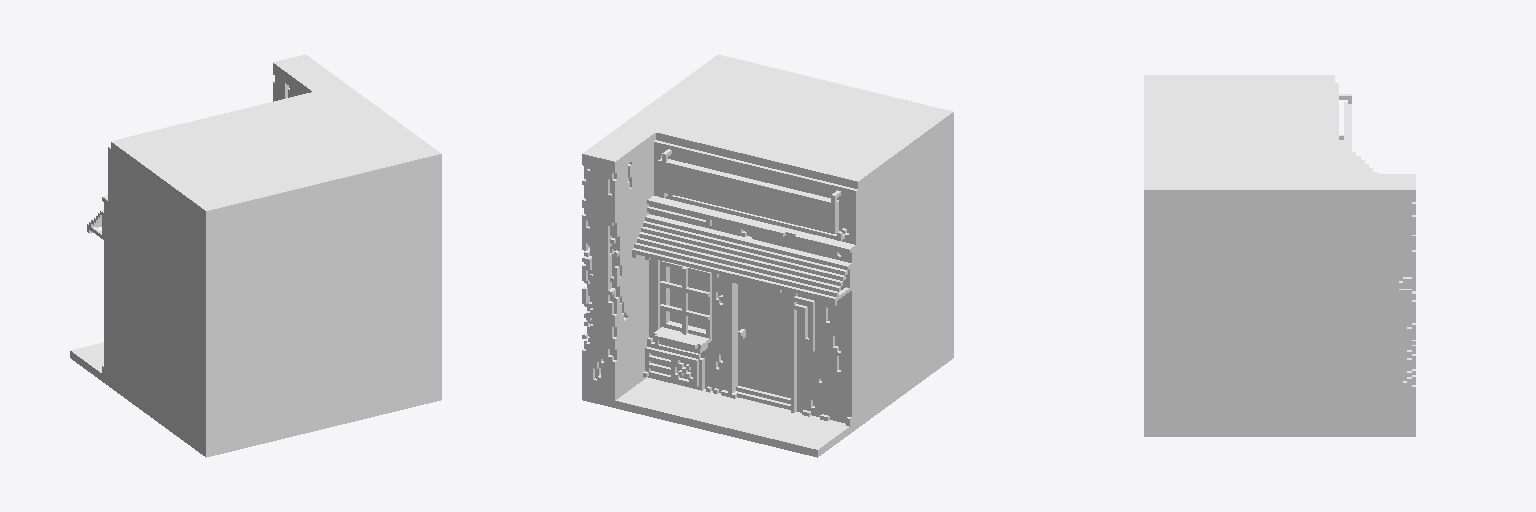
The model's file is Tutorialmap_V2_unfinished-31.obj.
The picture shows the model from 3 angles: view 1: azimuth 30°, elevation 25°; view 2: azimuth 150°, elevation 25°; view 3: azimuth 270°, elevation 25°; orthographic projection.
Parts seen in each view (by area): view 1: object 1; view 2: object 1; view 3: object 1.
Boxes of the visible parts, x1,y1,x2,y2 form: object 1: [70, 54, 441, 457]; object 1: [582, 54, 953, 457]; object 1: [1144, 75, 1415, 436].
Bounding box in the file's own units: 6.4 × 6.4 × 6.4.